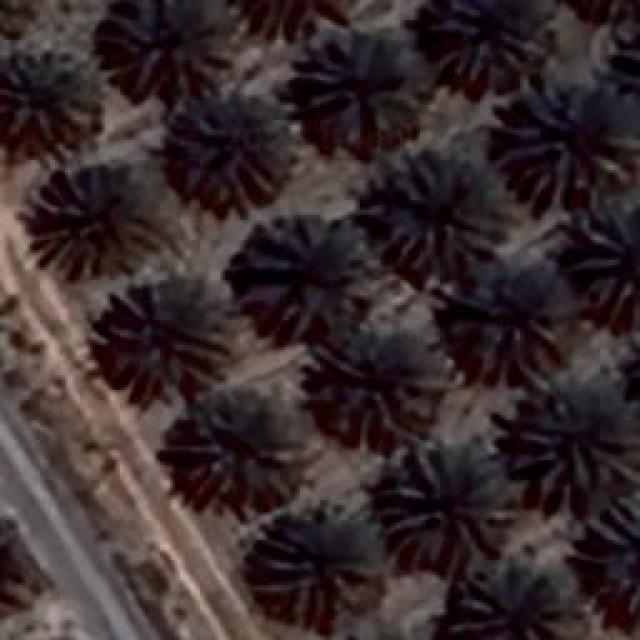PalmTree: (230, 215, 375, 335), (170, 385, 308, 510), (168, 82, 302, 210), (378, 438, 518, 560), (105, 275, 238, 403), (30, 165, 175, 280), (510, 372, 632, 506), (497, 80, 635, 198), (320, 330, 448, 452), (298, 29, 420, 152), (380, 160, 515, 270), (461, 274, 581, 378), (102, 0, 232, 95), (452, 552, 586, 638), (255, 518, 365, 622), (0, 40, 98, 150), (564, 499, 640, 640), (430, 0, 538, 85), (574, 200, 638, 310), (217, 0, 357, 42), (0, 516, 40, 624), (600, 16, 640, 97), (548, 0, 640, 28), (0, 0, 41, 38)
